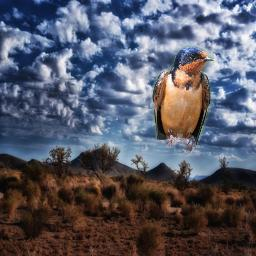Swallow: (152, 46, 214, 154)
